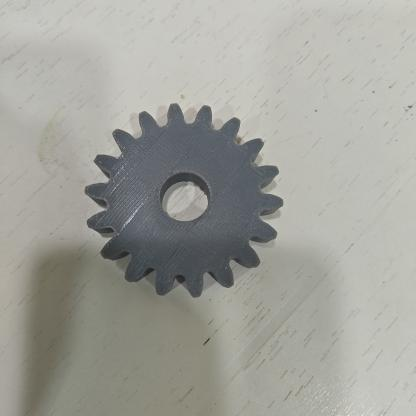gear: (68, 89, 301, 302)
